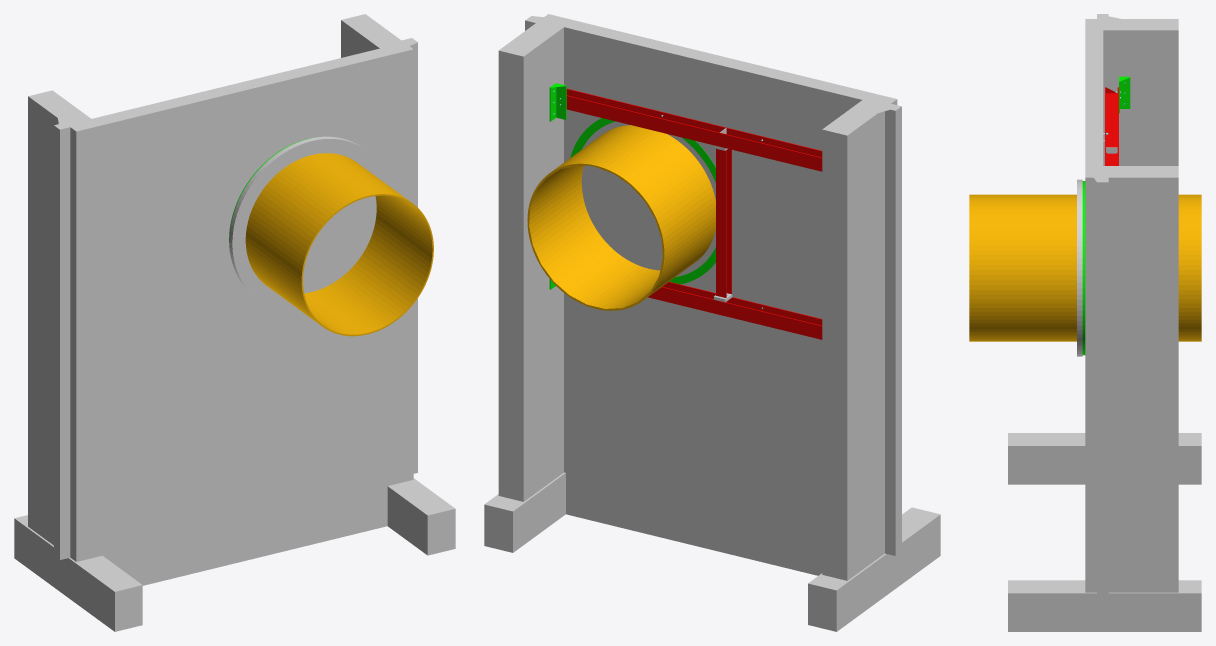
3 renders of one model, left to right at view 1: azimuth 30°, elevation 25°; view 2: azimuth 150°, elevation 25°; view 3: azimuth 270°, elevation 25°, orthographic. The views are drawn at different scales.
Visible parts, largest first — view 1: 0 100116 PL4142x230 Plaat B25, 0 100080 PL2352x5x1200 BALK B25, 0 100191 BUIS1900x20 KETEL EXIST, 0 100077 PL2352x5x1200 BALK B25, 0 100192 PL2275x20 STEUN EXIST, 0 100079 PL400x550 Kolom B25, 0 100078 PL400x550 Kolom B25, 0 100194 PL75x4 RING S235JR; view 2: 0 100116 PL4142x230 Plaat B25, 0 100080 PL2352x5x1200 BALK B25, 0 100077 PL2352x5x1200 BALK B25, 0 100191 BUIS1900x20 KETEL EXIST, 0 100079 PL400x550 Kolom B25, 2 100012 HEB180 RAFTER S235JR, 0 100078 PL400x550 Kolom B25, 1 100011 HEB180 RAFTER S235JR, 3 100027 HEB140 RAFTER S235JR, 4 100363 BLL204x100x4 RING S235JR, 5 100018 L150x15 STEUN S235JR; view 3: 0 100077 PL2352x5x1200 BALK B25, 0 100191 BUIS1900x20 KETEL EXIST, 0 100080 PL2352x5x1200 BALK B25, 0 100078 PL400x550 Kolom B25, 0 100079 PL400x550 Kolom B25, 0 100116 PL4142x230 Plaat B25, 0 100194 PL75x4 RING S235JR, 2 100012 HEB180 RAFTER S235JR, 6 100017 L100x10 RING S235JR, 5 100023 L150x15 STEUN S235JR.
Boxes of the visible parts, box(x1,y1,x2,y2) form: 0 100116 PL4142x230 Plaat B25: box(92, 48, 389, 585); 0 100080 PL2352x5x1200 BALK B25: box(28, 90, 100, 561); 0 100191 BUIS1900x20 KETEL EXIST: box(245, 153, 433, 336); 0 100077 PL2352x5x1200 BALK B25: box(341, 14, 417, 485); 0 100192 PL2275x20 STEUN EXIST: box(232, 139, 388, 309); 0 100079 PL400x550 Kolom B25: box(14, 515, 142, 631); 0 100078 PL400x550 Kolom B25: box(387, 478, 455, 555); 0 100194 PL75x4 RING S235JR: box(229, 136, 388, 309); 0 100116 PL4142x230 Plaat B25: box(564, 20, 871, 575); 0 100080 PL2352x5x1200 BALK B25: box(822, 93, 901, 580); 0 100077 PL2352x5x1200 BALK B25: box(498, 14, 573, 501); 0 100191 BUIS1900x20 KETEL EXIST: box(527, 125, 715, 310); 0 100079 PL400x550 Kolom B25: box(808, 507, 940, 631); 2 100012 HEB180 RAFTER S235JR: box(566, 88, 822, 171); 0 100078 PL400x550 Kolom B25: box(484, 472, 565, 552); 1 100011 HEB180 RAFTER S235JR: box(648, 281, 822, 339); 3 100027 HEB140 RAFTER S235JR: box(716, 149, 731, 297); 4 100363 BLL204x100x4 RING S235JR: box(570, 118, 715, 284); 5 100018 L150x15 STEUN S235JR: box(549, 83, 566, 121); 0 100077 PL2352x5x1200 BALK B25: box(1085, 166, 1178, 597); 0 100191 BUIS1900x20 KETEL EXIST: box(969, 194, 1201, 341); 0 100080 PL2352x5x1200 BALK B25: box(1085, 14, 1178, 165); 0 100078 PL400x550 Kolom B25: box(1008, 580, 1201, 631); 0 100079 PL400x550 Kolom B25: box(1008, 433, 1201, 484); 0 100116 PL4142x230 Plaat B25: box(1085, 30, 1103, 165); 0 100194 PL75x4 RING S235JR: box(1077, 179, 1082, 356); 2 100012 HEB180 RAFTER S235JR: box(1105, 87, 1118, 165); 6 100017 L100x10 RING S235JR: box(1082, 181, 1085, 355); 5 100023 L150x15 STEUN S235JR: box(1119, 76, 1130, 113).
Bounding box in the file's own units: 5142 × 6455 × 3000.
